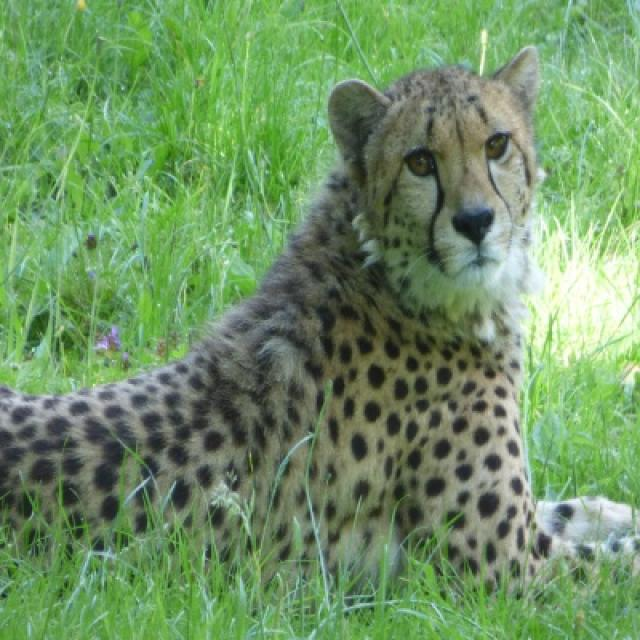Cheetah: (0, 48, 638, 600)
